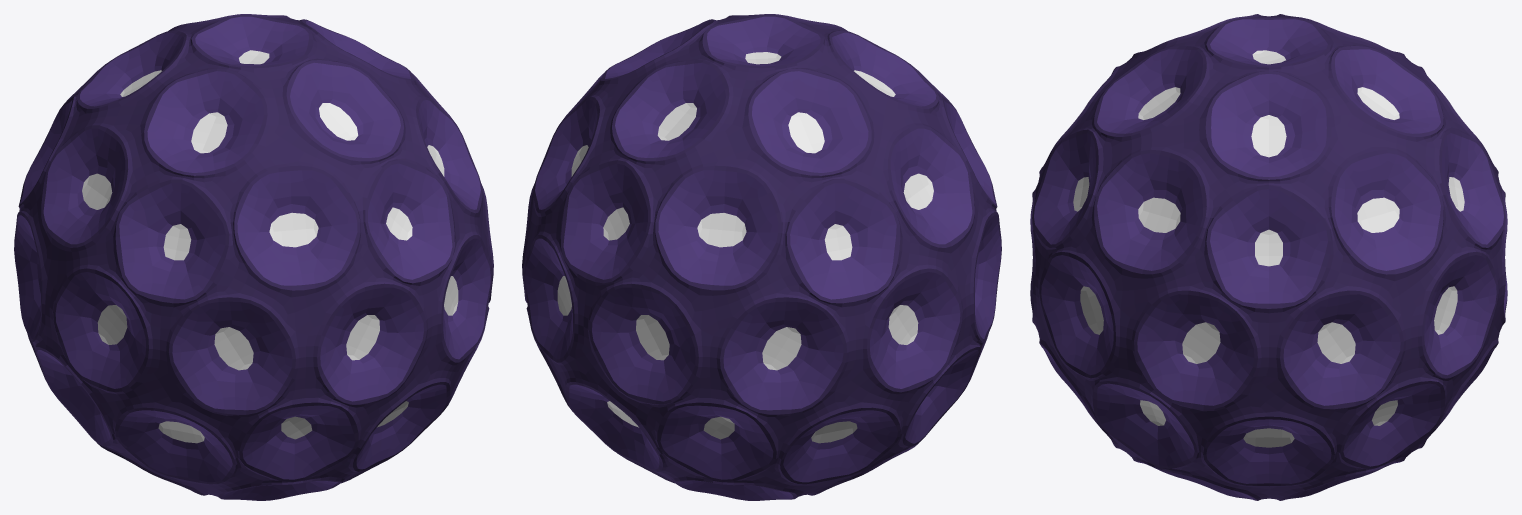
The model's file is Meteorito.fbx.
The picture shows the model from 3 angles, left to right: view 1: azimuth 30°, elevation 25°; view 2: azimuth 150°, elevation 25°; view 3: azimuth 270°, elevation 25°; orthographic projection.
Parts seen in each view (by area): view 1: Esfera geodésica; view 2: Esfera geodésica; view 3: Esfera geodésica.
Part boxes in pixels (x1,y1,x2,y2): Esfera geodésica: (14, 14, 493, 500); Esfera geodésica: (522, 14, 1001, 500); Esfera geodésica: (1030, 14, 1507, 500).
Bounding box in the file's own units: 600 × 600 × 600.
